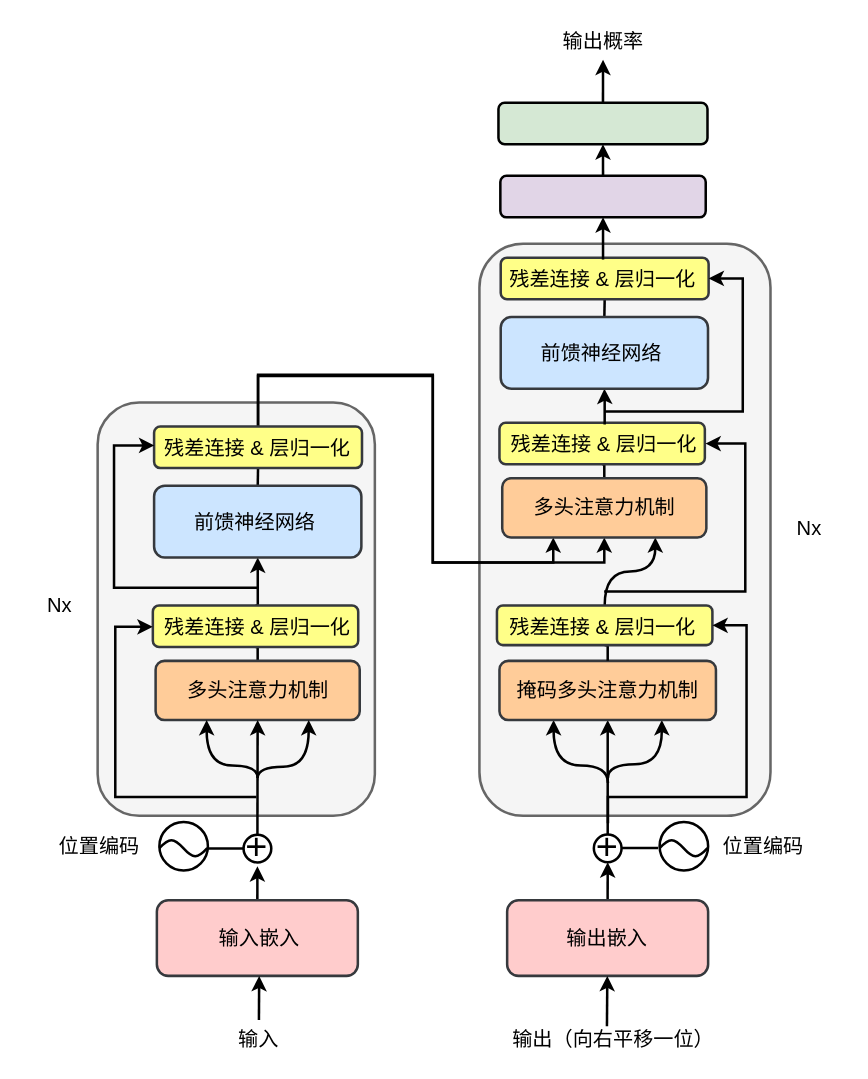
Image size: 868x1079. Some labels were removed from this diagram. The shapes that lost their labels are listed below. From the top down, each one's centre as x and y in pixels, then its label:
At point 602,123: "Softmax层".
At point 602,196: "线性层".
